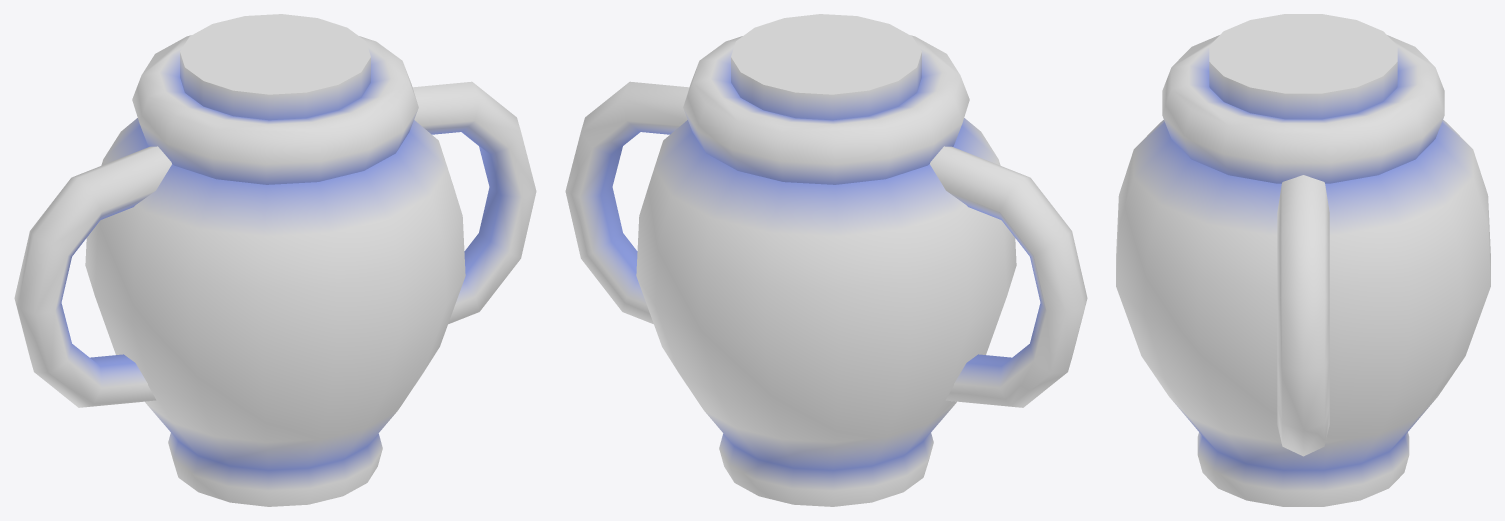
Rendered from ruins_pot_solid.glb.
The picture shows the model from 3 angles, left to right: view 1: azimuth 30°, elevation 25°; view 2: azimuth 150°, elevation 25°; view 3: azimuth 270°, elevation 25°; orthographic projection.
Parts seen in each view (by area): view 1: Pot; view 2: Pot; view 3: Pot.
Boxes of the visible parts, box(x1,y1,x2,y2) form: Pot: box(14, 14, 536, 506); Pot: box(565, 14, 1087, 506); Pot: box(1116, 14, 1490, 506).
Size of the model in its own units: 2.22 by 1.68 by 1.39.
